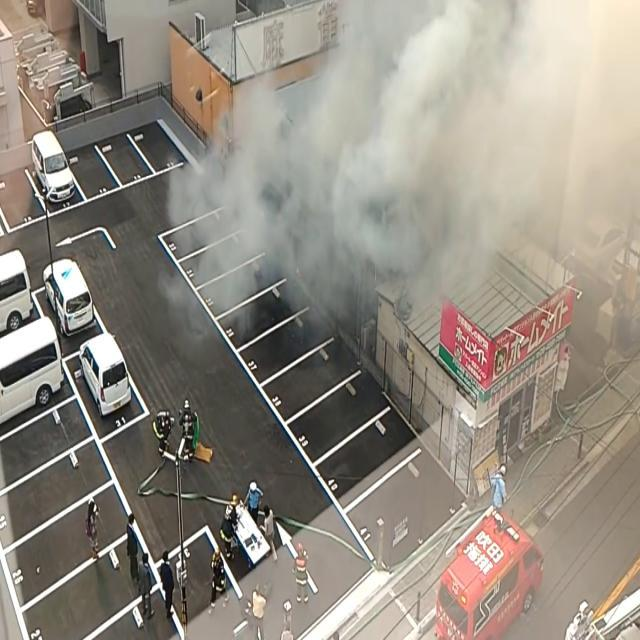Smoke: (175, 0, 640, 321)
